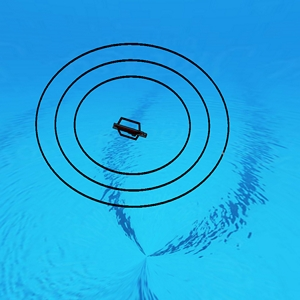circle: (29, 36, 236, 212)
submarine: (114, 117, 149, 141)
